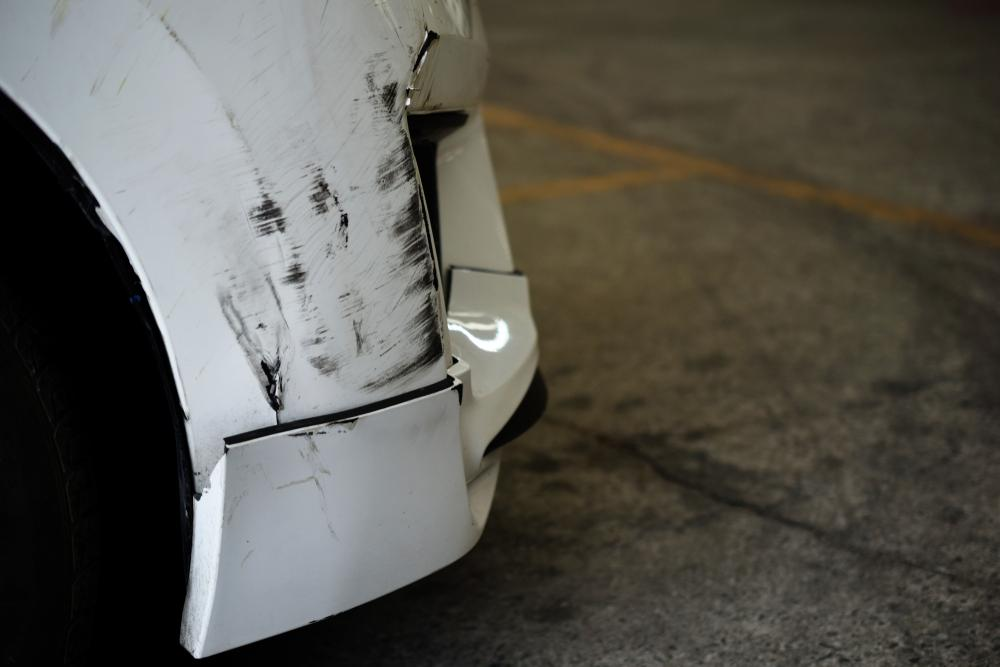scratch: (203, 5, 449, 422), (288, 417, 369, 541)
